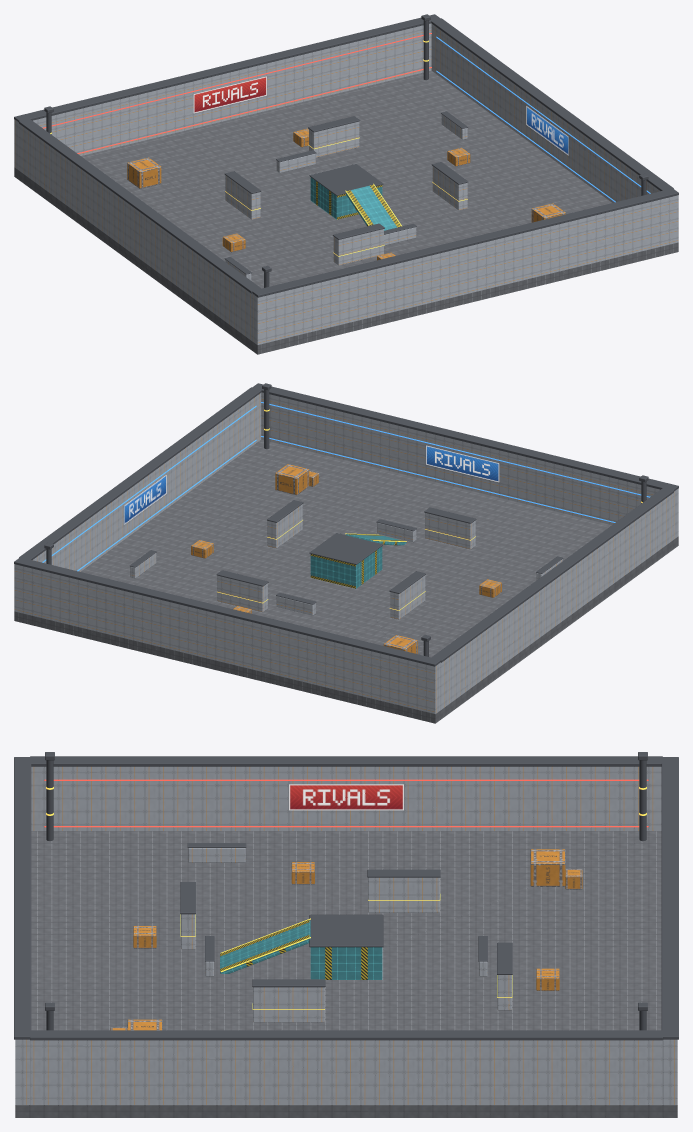
Rendered from arena.gltf.
3 renders of one model, top to bottom at view 1: azimuth 30°, elevation 25°; view 2: azimuth 150°, elevation 25°; view 3: azimuth 270°, elevation 25°, orthographic. The views are drawn at different scales.
Parts seen in each view (by area): view 1: arena; view 2: arena; view 3: arena.
Boxes of the visible parts, x1=… form: arena: x1=14, y1=14, x2=678, y2=354; arena: x1=14, y1=383, x2=678, y2=723; arena: x1=14, y1=752, x2=678, y2=1117.
Size of the model in its own units: 46.2 by 7.57 by 46.2.
Materials: 10 (6 with a texture image).
